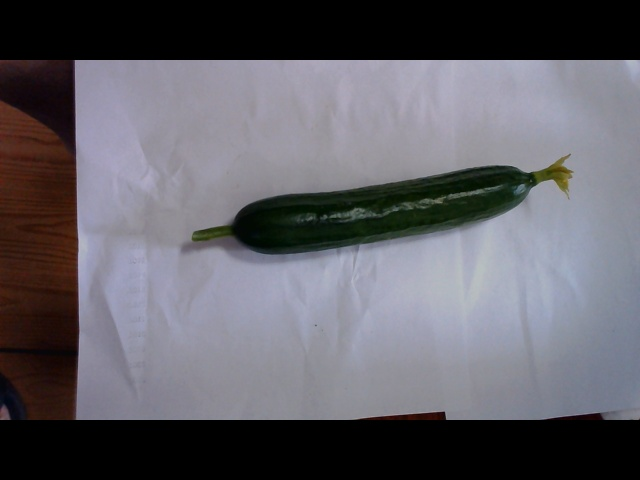cucumber: (218, 143, 573, 263)
